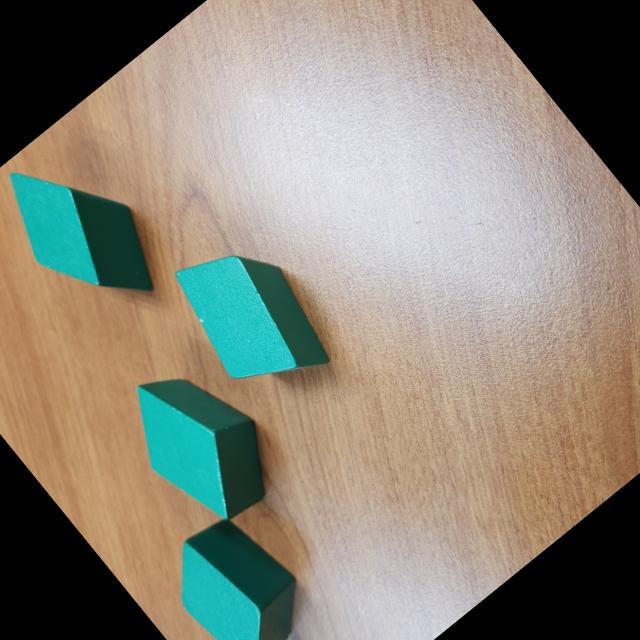green: (107, 342, 298, 542), (0, 126, 181, 336), (157, 221, 346, 417), (151, 500, 329, 640)
